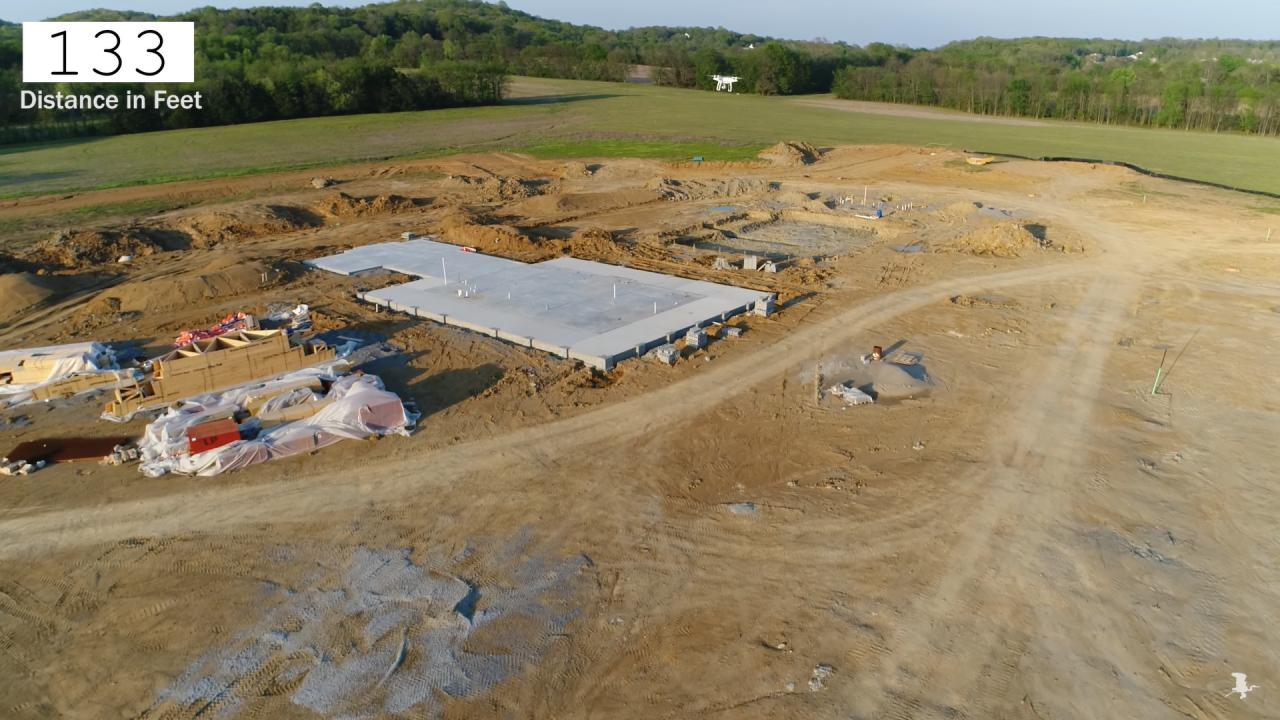Drone: (699, 66, 752, 98)
